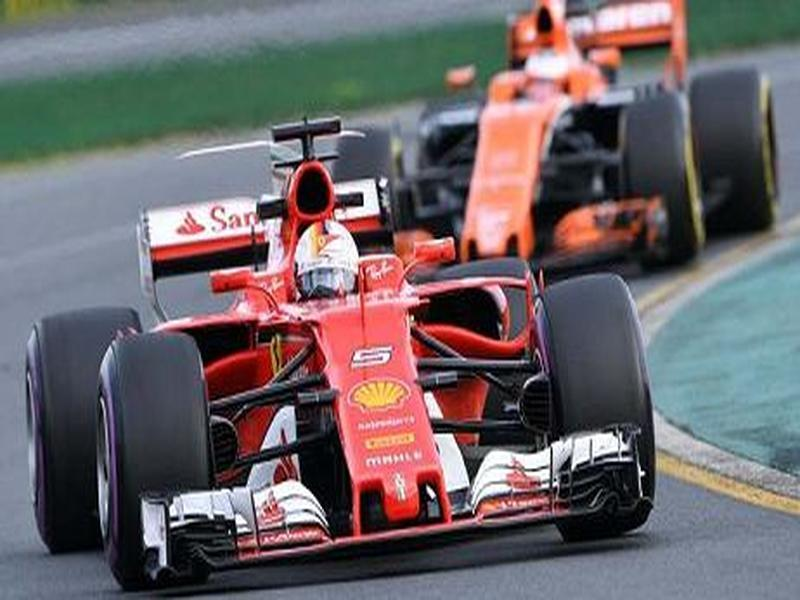f1: (20, 115, 678, 555)
